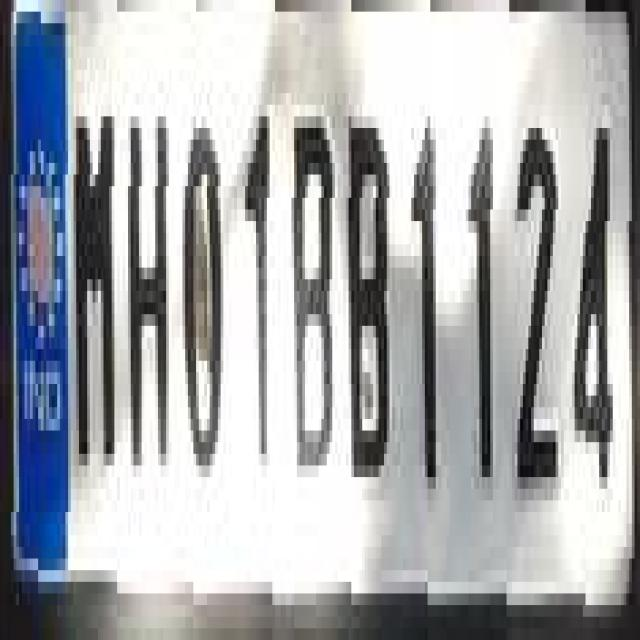plate: (3, 0, 602, 640)
